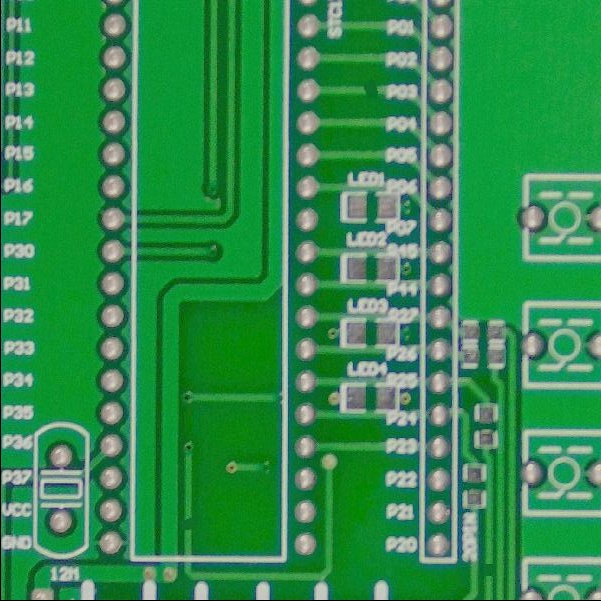open_circuit: (357, 82, 378, 101), (179, 514, 195, 535), (482, 562, 494, 582)
